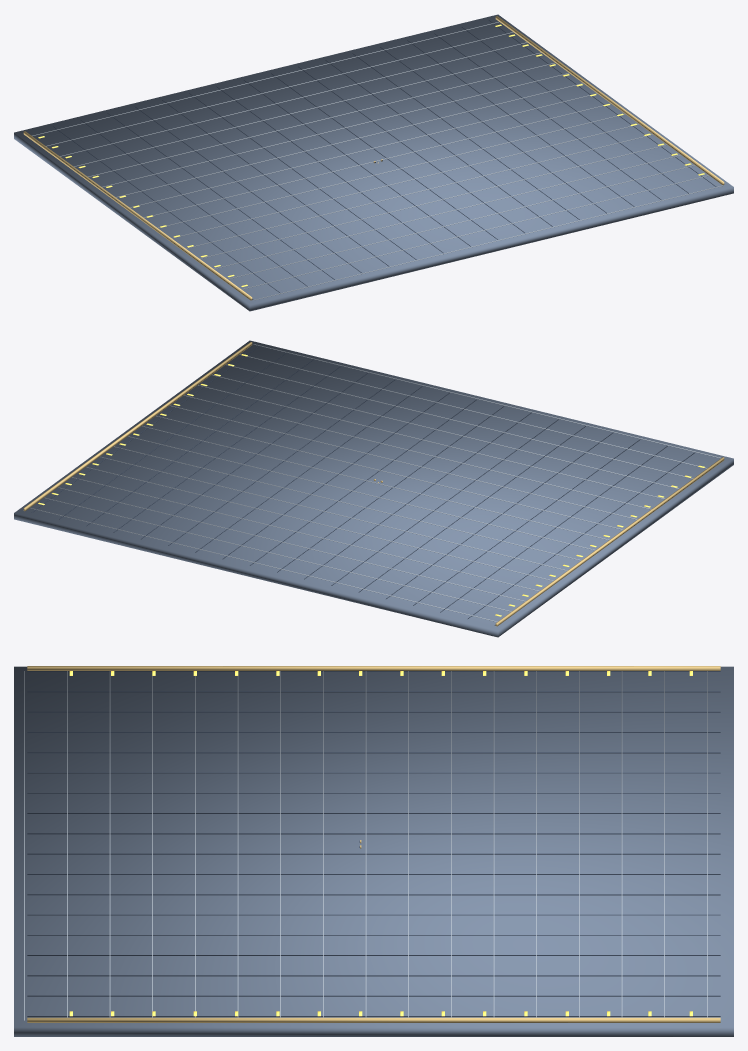
File: 00_L91_CosmicNavigationQualificationDeck.glb
The picture shows the model from 3 angles, top to bottom: view 1: azimuth 30°, elevation 25°; view 2: azimuth 150°, elevation 25°; view 3: azimuth 270°, elevation 25°; orthographic projection. The views are drawn at different scales.
Visible parts, largest first — view 1: L91_CosmicNavigationQualifica_Part_0000, L91_CosmicNavigationQualifica_Part_0003, L91_CosmicNavigationQualifica_Part_0001, L91_CosmicNavigationQualifica_Part_0004; view 2: L91_CosmicNavigationQualifica_Part_0000, L91_CosmicNavigationQualifica_Part_0003, L91_CosmicNavigationQualifica_Part_0001, L91_CosmicNavigationQualifica_Part_0004; view 3: L91_CosmicNavigationQualifica_Part_0000, L91_CosmicNavigationQualifica_Part_0001, L91_CosmicNavigationQualifica_Part_0004, L91_CosmicNavigationQualifica_Part_0003, L91_CosmicNavigationQualifica_Part_0002.
Part boxes in pixels (bbox=[...]): L91_CosmicNavigationQualifica_Part_0000: bbox=[14, 14, 733, 311]; L91_CosmicNavigationQualifica_Part_0003: bbox=[32, 22, 722, 300]; L91_CosmicNavigationQualifica_Part_0001: bbox=[53, 27, 688, 299]; L91_CosmicNavigationQualifica_Part_0004: bbox=[23, 16, 724, 300]; L91_CosmicNavigationQualifica_Part_0000: bbox=[14, 340, 733, 637]; L91_CosmicNavigationQualifica_Part_0003: bbox=[30, 344, 720, 621]; L91_CosmicNavigationQualifica_Part_0001: bbox=[59, 353, 694, 625]; L91_CosmicNavigationQualifica_Part_0004: bbox=[23, 342, 724, 626]; L91_CosmicNavigationQualifica_Part_0000: bbox=[14, 666, 733, 1036]; L91_CosmicNavigationQualifica_Part_0001: bbox=[27, 671, 720, 996]; L91_CosmicNavigationQualifica_Part_0004: bbox=[27, 666, 720, 1022]; L91_CosmicNavigationQualifica_Part_0003: bbox=[24, 671, 707, 1020]; L91_CosmicNavigationQualifica_Part_0002: bbox=[27, 1016, 720, 1016].
Bounding box in the file's own units: 32 × 0.59 × 27.
